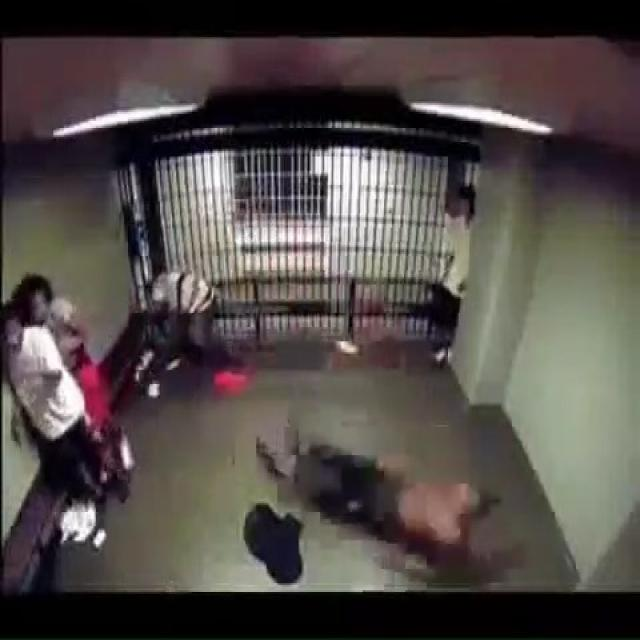fight: (123, 226, 510, 582)
